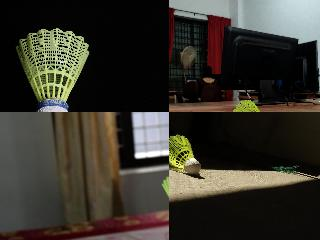shuttlecock: (14, 28, 89, 111), (169, 134, 201, 175), (232, 99, 269, 111), (161, 173, 168, 222)
